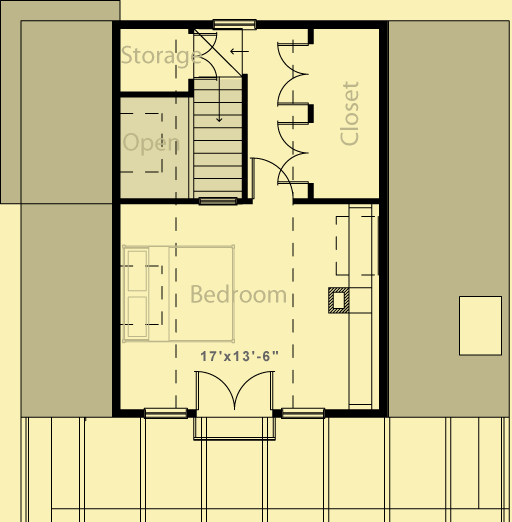bed: (122, 245, 234, 345)
door: (194, 368, 276, 412), (276, 117, 312, 186), (275, 41, 313, 106)
stairs: (187, 77, 246, 199)
windows: (140, 405, 193, 422), (279, 406, 327, 423), (211, 17, 259, 32)
